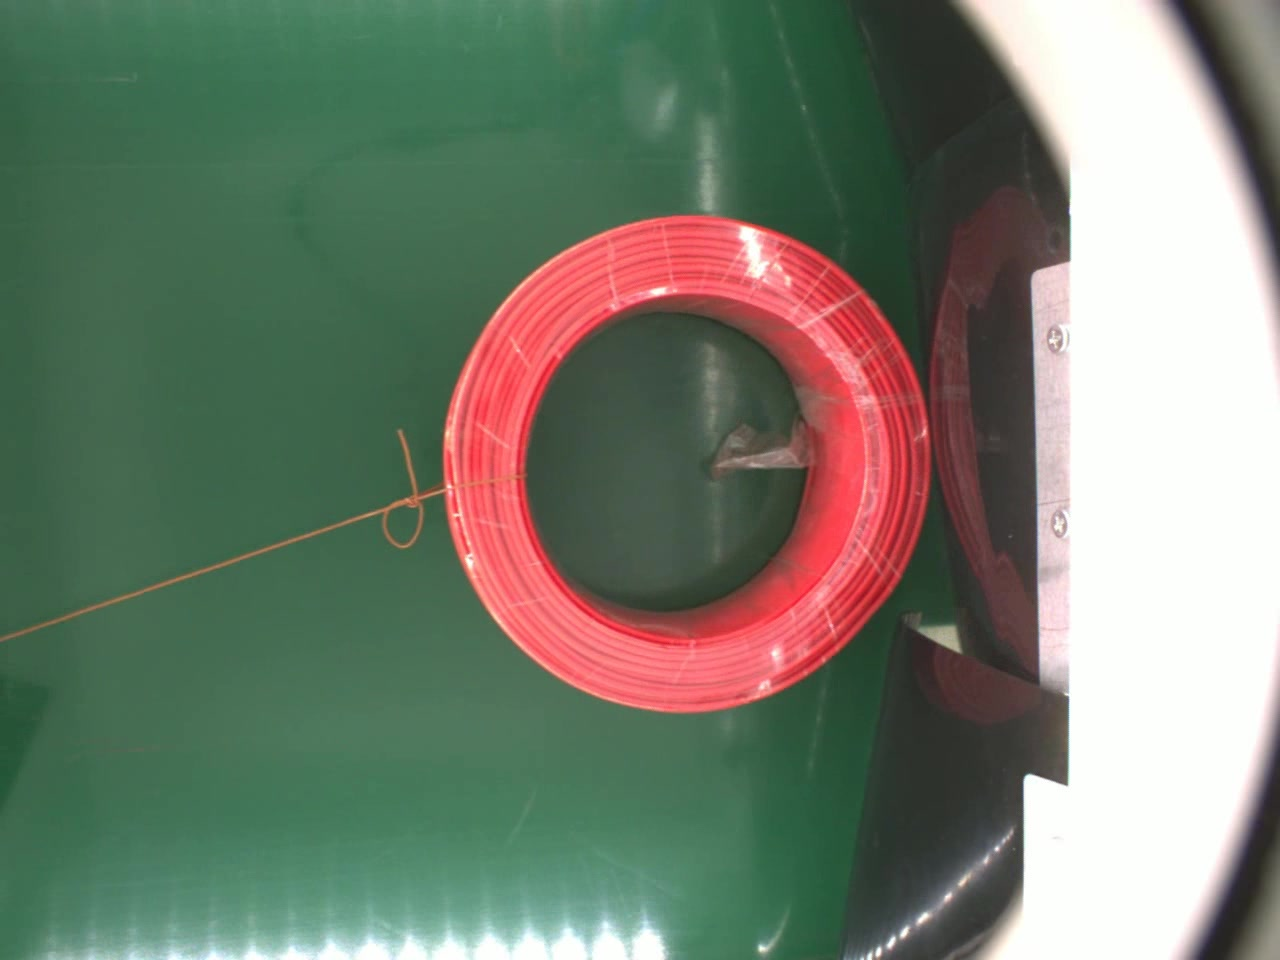red: (437, 213, 936, 718)
